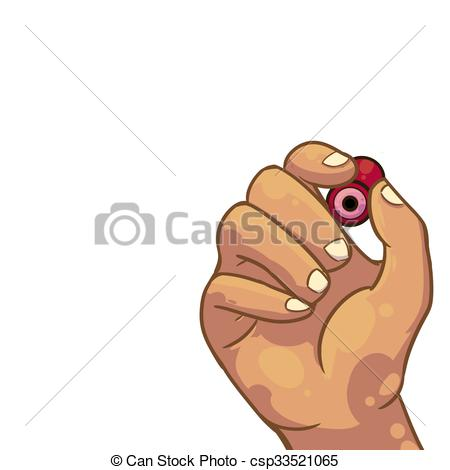pointer: (203, 145, 435, 382)
